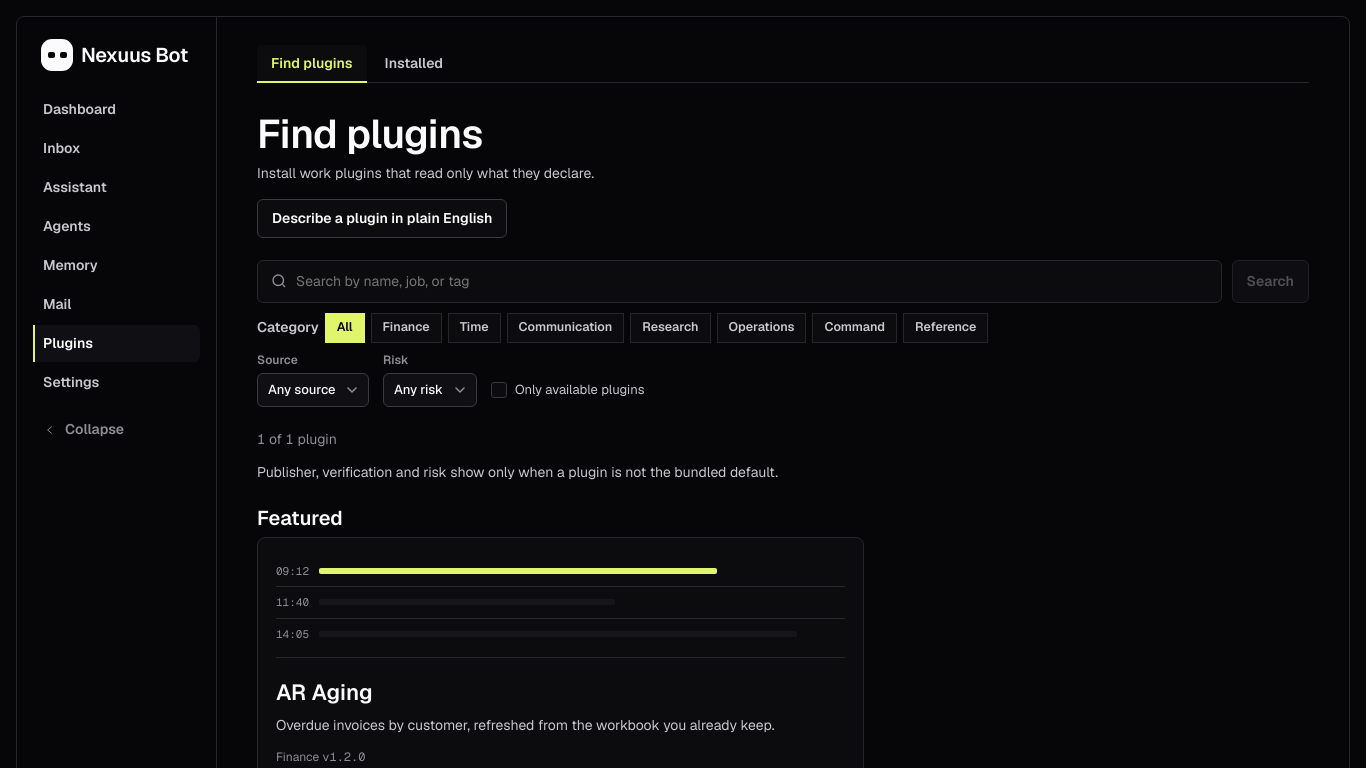
Test case: describing a plugin (spec 024) › opens the description dialog when a connection is saved
Expected: the heading "Find plugins" is shown, [257,108,483,160]
Click the button "Describe a plugin in plain English": coordinates (382, 218) [257,199,507,238]
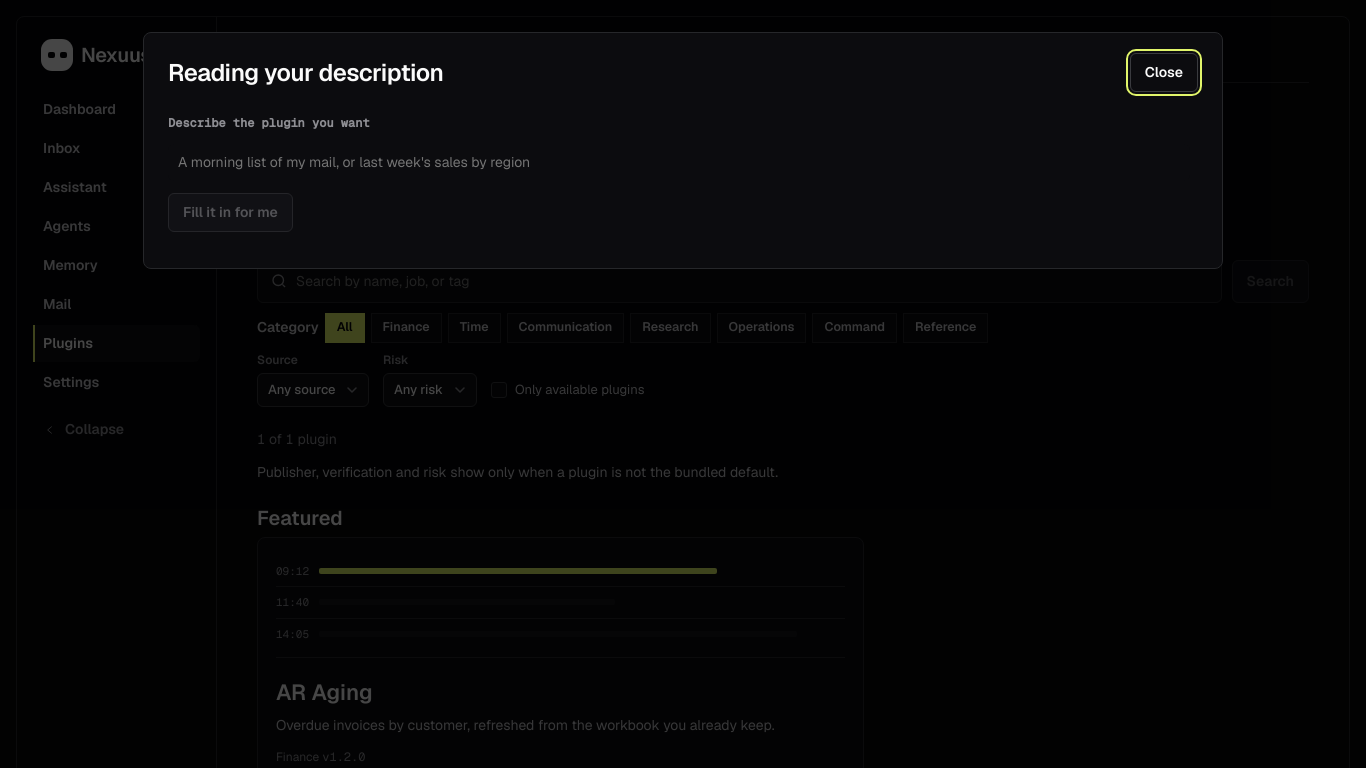
Expected: the field labelled "Describe the plugin you want" is shown, [168,144,1190,181]
Expected: the button "Fill it in for me" is shown, [168,193,293,232]
